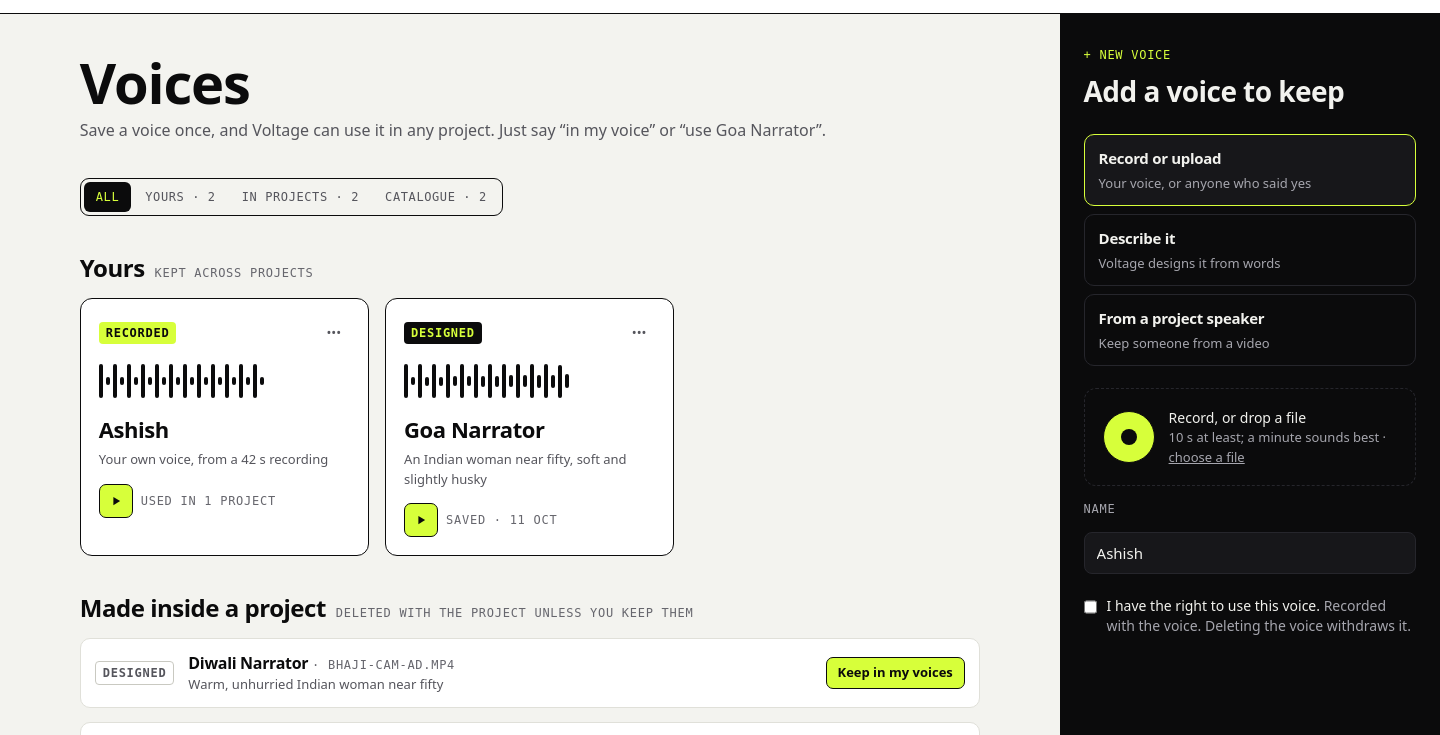
Test: VoicesPage › clones a project speaker and keeps it
This screenshot has width=1440, height=735.
Expected: the heading "Yours" is shown, [80, 252, 145, 284]
Click the radio button labelled "From a project speaker Keep someone from a video" at [1250, 330], box [1084, 294, 1416, 366]
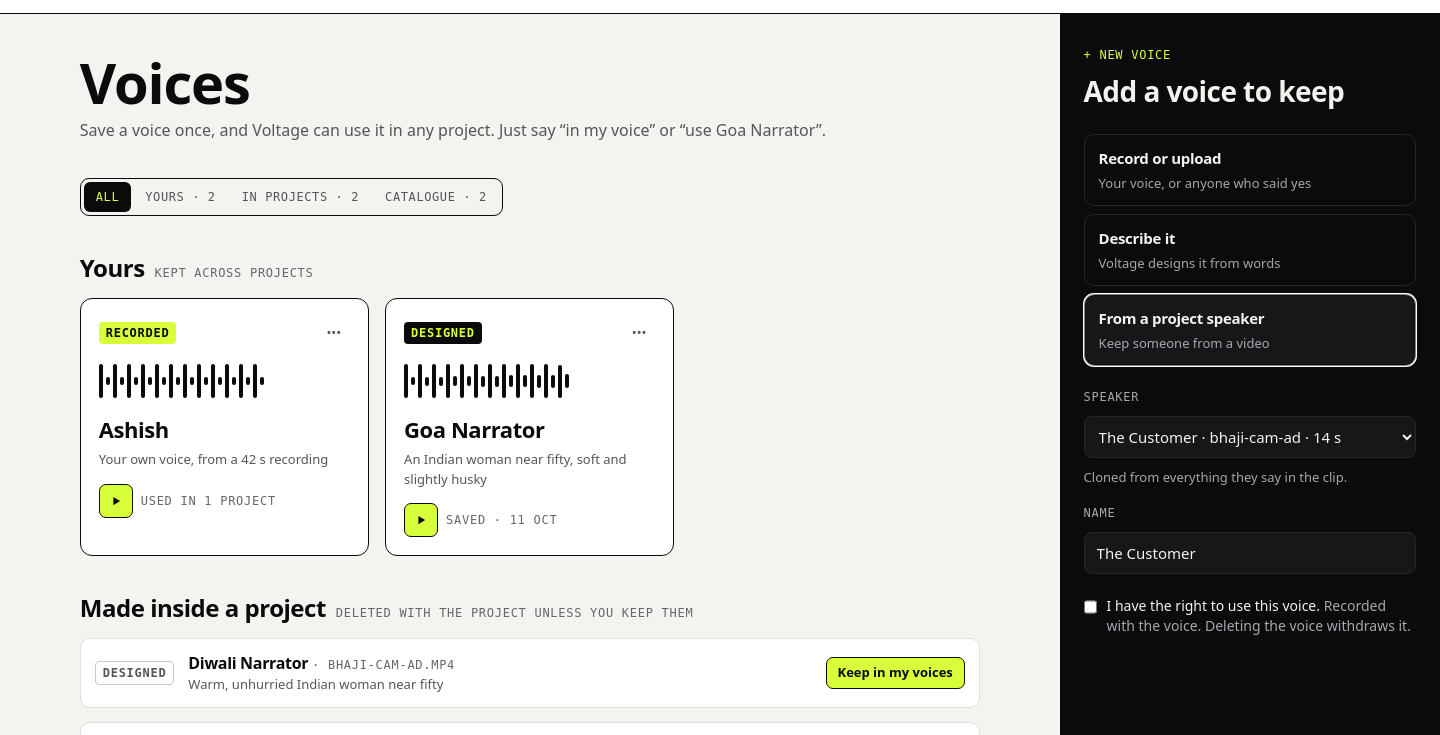
Result: the field labelled "Name" holds "The Customer" at [1084, 532, 1416, 574]
Click the checkbox labelled "I have the right to use this voice" at [1090, 606], box [1084, 598, 1097, 616]
(page scrolled)
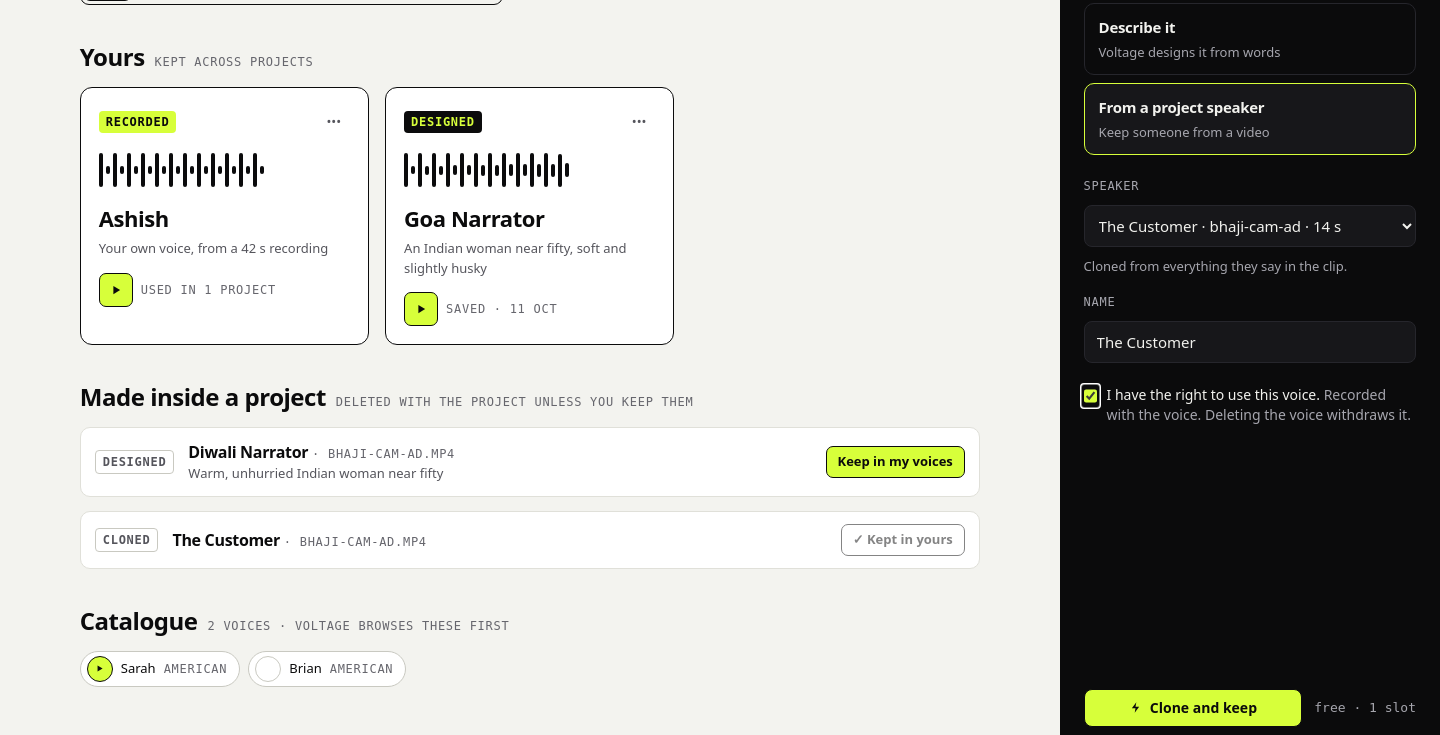
Click the button "Clone and keep" at [1193, 708], box [1084, 688, 1302, 726]
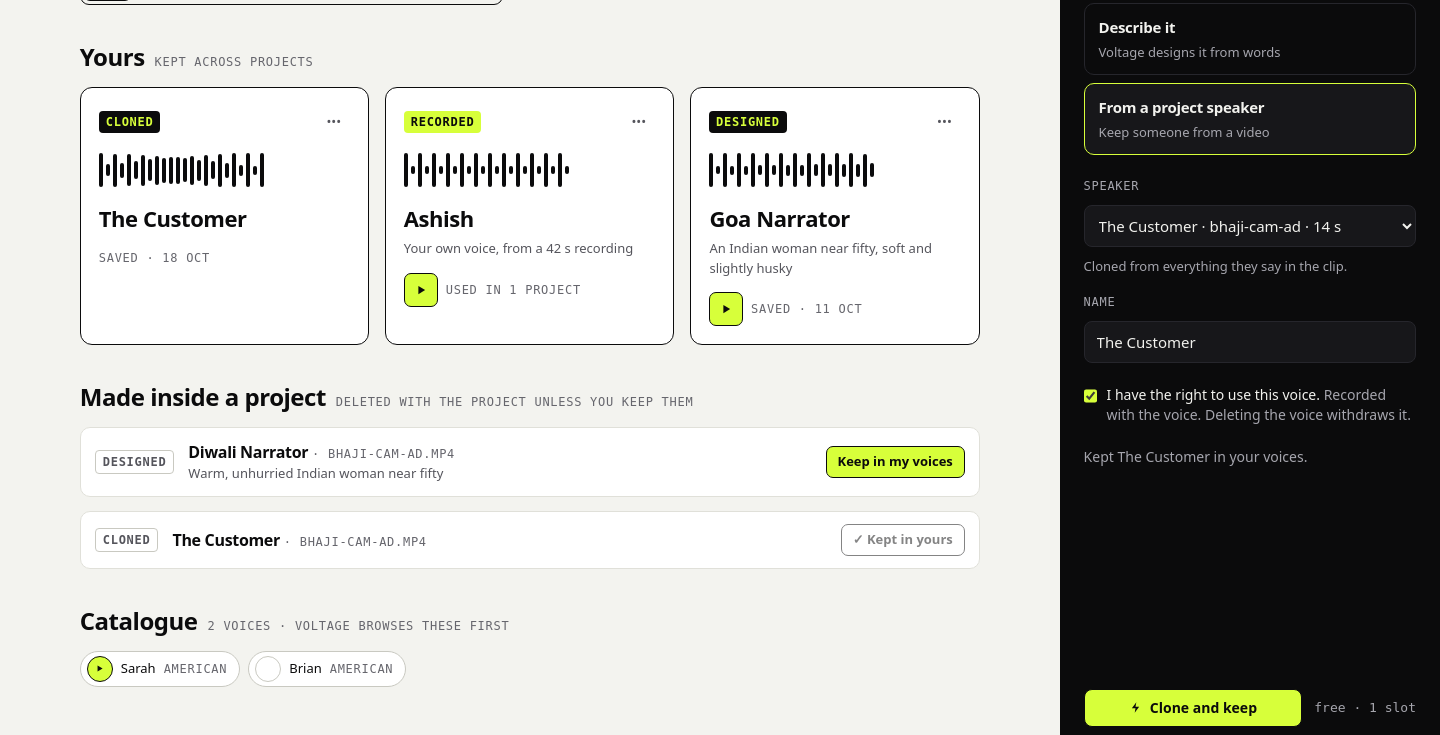
Result: the text "Kept The Customer in your voices." is shown at [1084, 446, 1307, 466]
